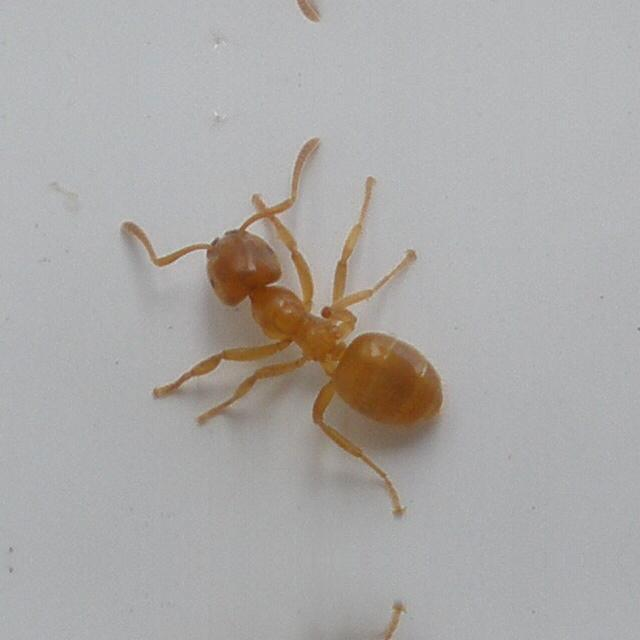Lasius: (155, 163, 491, 479)
